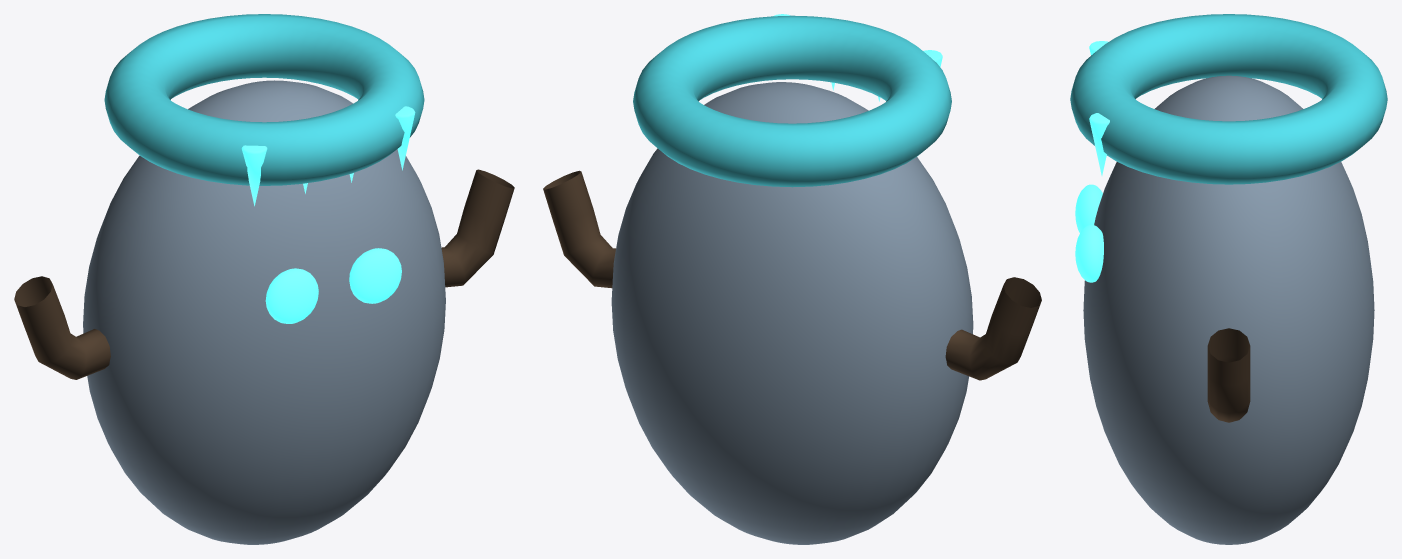
File: mimic_v3.glb
3 renders of one model, left to right at view 1: azimuth 30°, elevation 25°; view 2: azimuth 150°, elevation 25°; view 3: azimuth 270°, elevation 25°, orthographic.
Visible parts, largest first — view 1: URN_BODY_PRIMARY, URN_RIM_ACCENT, URN_ARM_SECONDARY, URN_ARM_SECONDARY.001, EYE_EMISSIVE, EYE_EMISSIVE.001, URN_TOOTH_EMISSIVE, URN_TOOTH_EMISSIVE.003; view 2: URN_BODY_PRIMARY, URN_RIM_ACCENT, URN_ARM_SECONDARY, URN_ARM_SECONDARY.001; view 3: URN_BODY_PRIMARY, URN_RIM_ACCENT, URN_ARM_SECONDARY.001, EYE_EMISSIVE.001, EYE_EMISSIVE, URN_TOOTH_EMISSIVE.003.
Part boxes in pixels (box(x1,y1,x2,y2)): URN_BODY_PRIMARY: box(83, 80, 445, 544); URN_RIM_ACCENT: box(104, 14, 424, 185); URN_ARM_SECONDARY: box(14, 276, 110, 379); URN_ARM_SECONDARY.001: box(441, 169, 514, 287); EYE_EMISSIVE: box(265, 268, 318, 323); EYE_EMISSIVE.001: box(349, 248, 401, 303); URN_TOOTH_EMISSIVE: box(241, 145, 267, 206); URN_TOOTH_EMISSIVE.003: box(395, 106, 415, 170); URN_BODY_PRIMARY: box(611, 82, 973, 544); URN_RIM_ACCENT: box(633, 15, 951, 187); URN_ARM_SECONDARY: box(945, 277, 1041, 380); URN_ARM_SECONDARY.001: box(543, 170, 615, 288); URN_BODY_PRIMARY: box(1083, 75, 1374, 544); URN_RIM_ACCENT: box(1070, 14, 1387, 184); URN_ARM_SECONDARY.001: box(1207, 328, 1250, 422); EYE_EMISSIVE.001: box(1075, 224, 1103, 282); EYE_EMISSIVE: box(1075, 184, 1102, 232); URN_TOOTH_EMISSIVE.003: box(1089, 113, 1109, 175).
Size of the model in its own units: 1.75 by 1.57 by 0.984.
